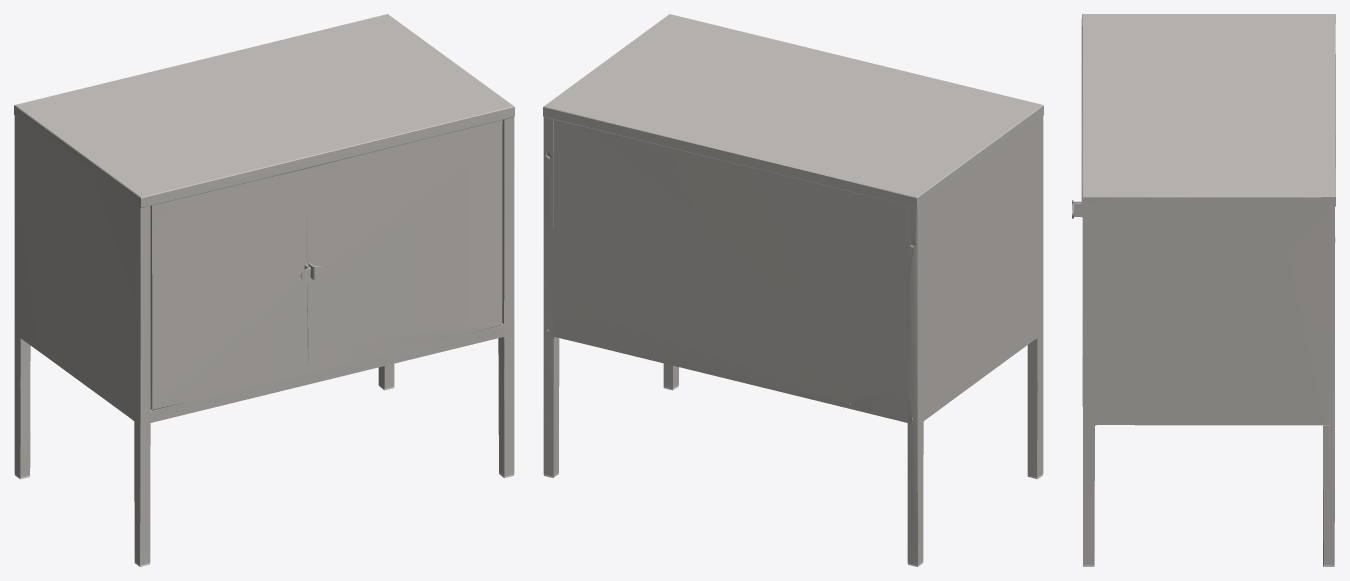
The model's file is 60 - LIXHULT - 收納櫃, 金屬灰色, 60x35 公分 IKEA 線上購物.glb.
3 views of the same model, side by side, from view 1: azimuth 30°, elevation 25°; view 2: azimuth 150°, elevation 25°; view 3: azimuth 270°, elevation 25° (orthographic).
Visible parts, largest first — view 1: ProcessedMeshNode; view 2: ProcessedMeshNode; view 3: ProcessedMeshNode.
Boxes of the visible parts, x1,y1,x2,y2 form: ProcessedMeshNode: [14, 14, 514, 566]; ProcessedMeshNode: [543, 14, 1043, 566]; ProcessedMeshNode: [1072, 14, 1335, 566].
Bounding box in the file's own units: 0.6007 × 0.5673 × 0.3659.
Materials: 1 (1 with a texture image).
